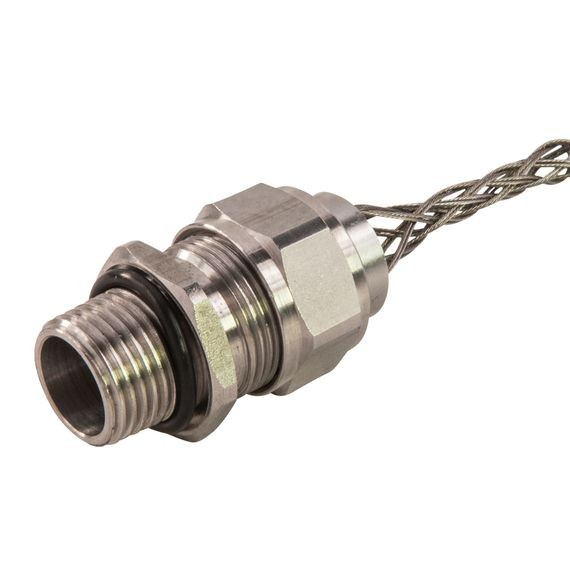Nonrec_Tangler: (10, 121, 570, 483)
